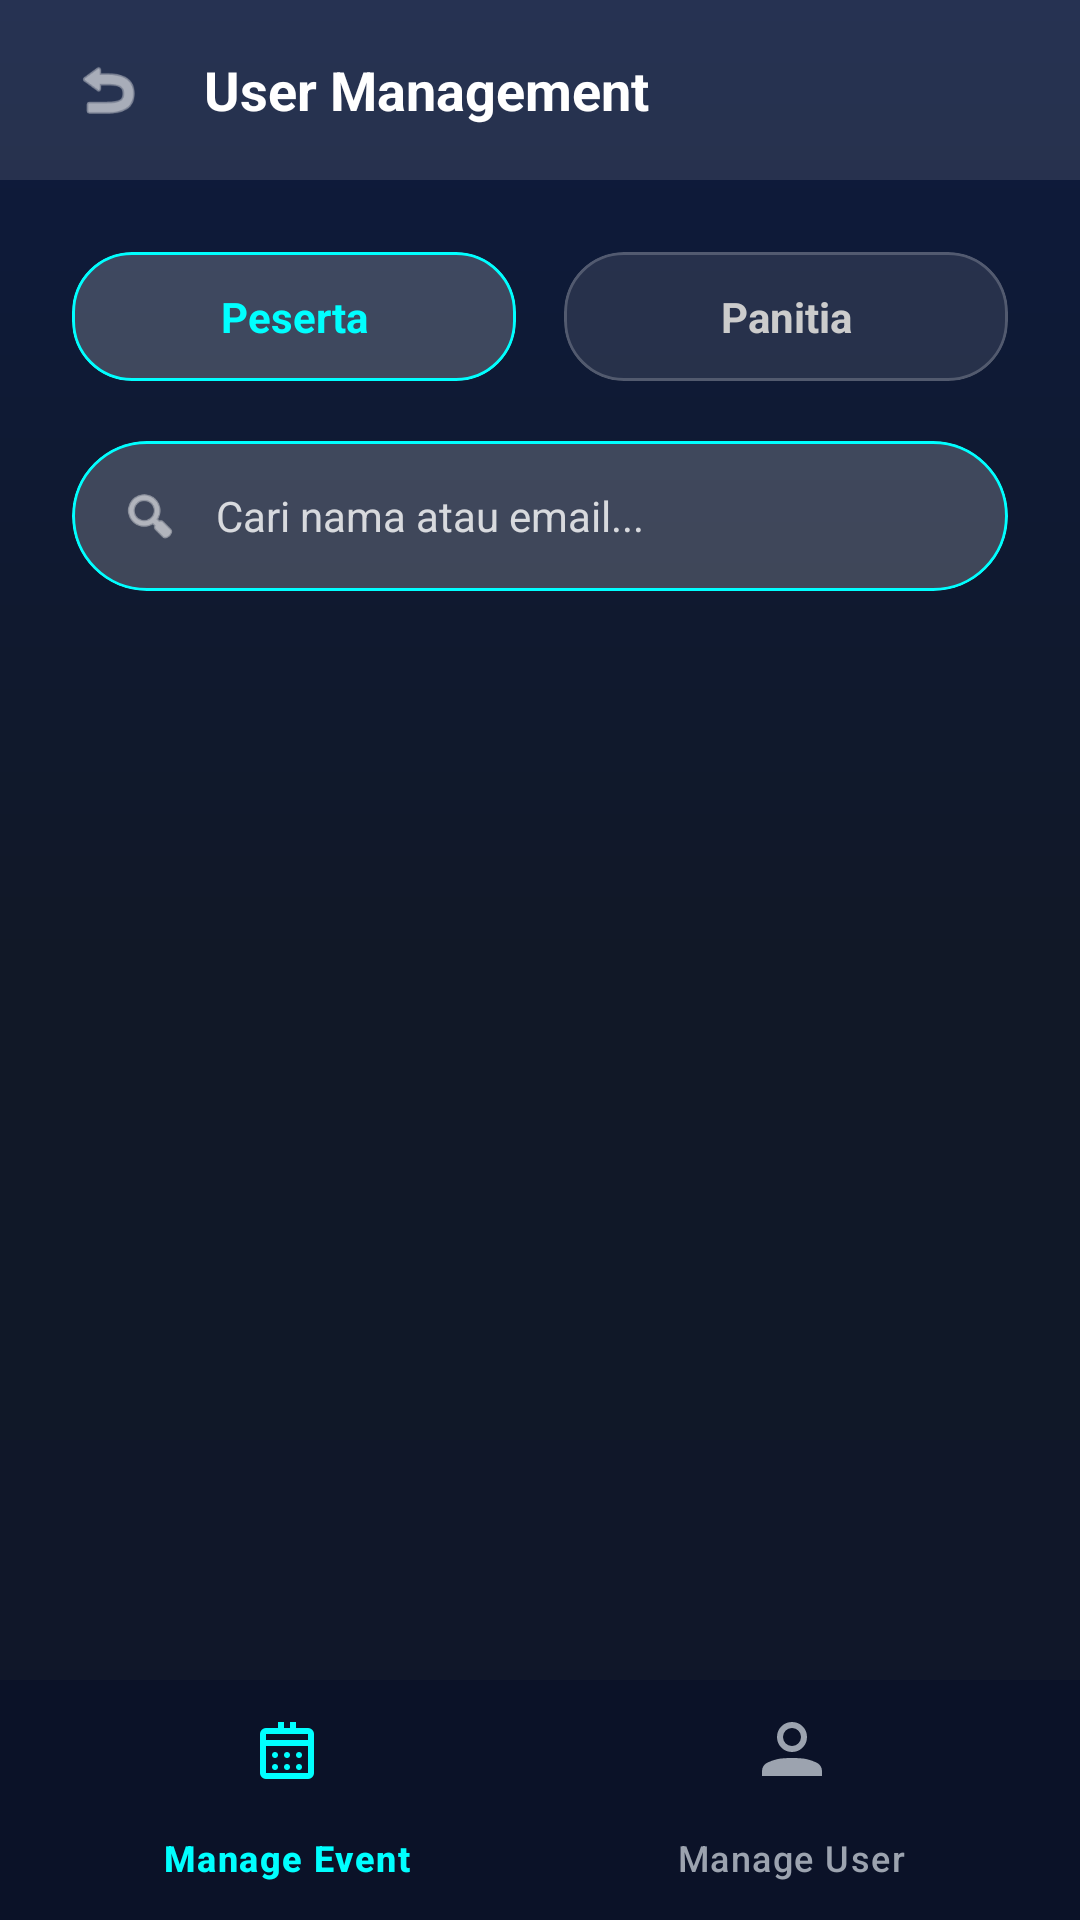

Where icons sit on this 1080×1920 app screen, as [left=x1, top=y1, right=x2, bottom=y2]:
revert: [left=83, top=67, right=135, bottom=114]
search: [left=128, top=494, right=172, bottom=539]
